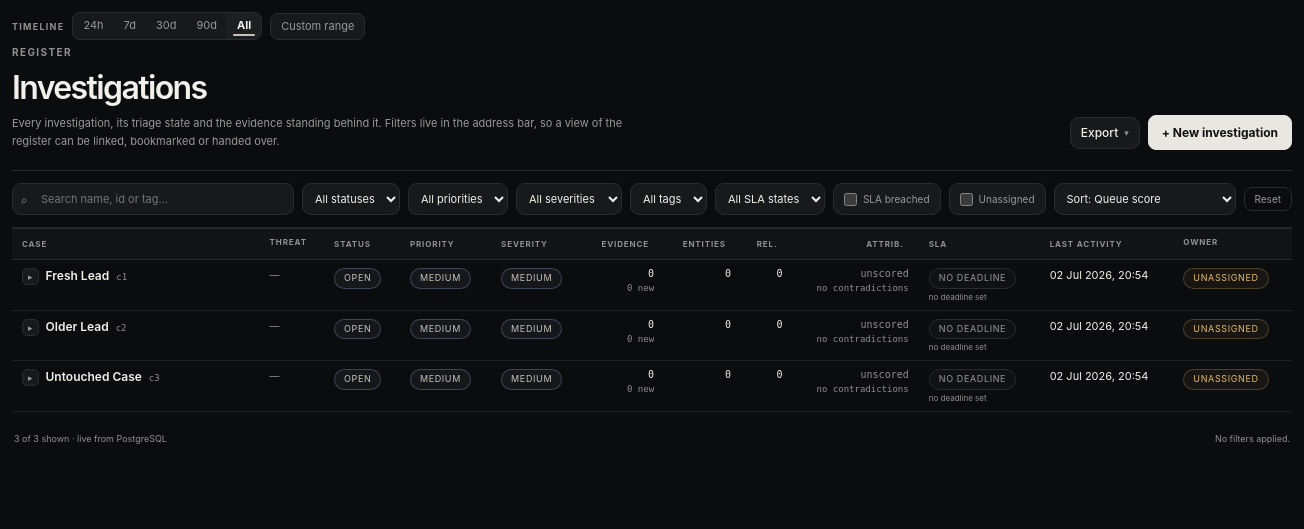
Test: the investigations register under a window › does not claim an empty window is an all-clear
Expected: the link "Fresh Lead" is shown, [46,268,109,283]
Step 1. Click the radio button labelled "24h" → (94, 26), box [73,13,114,39]
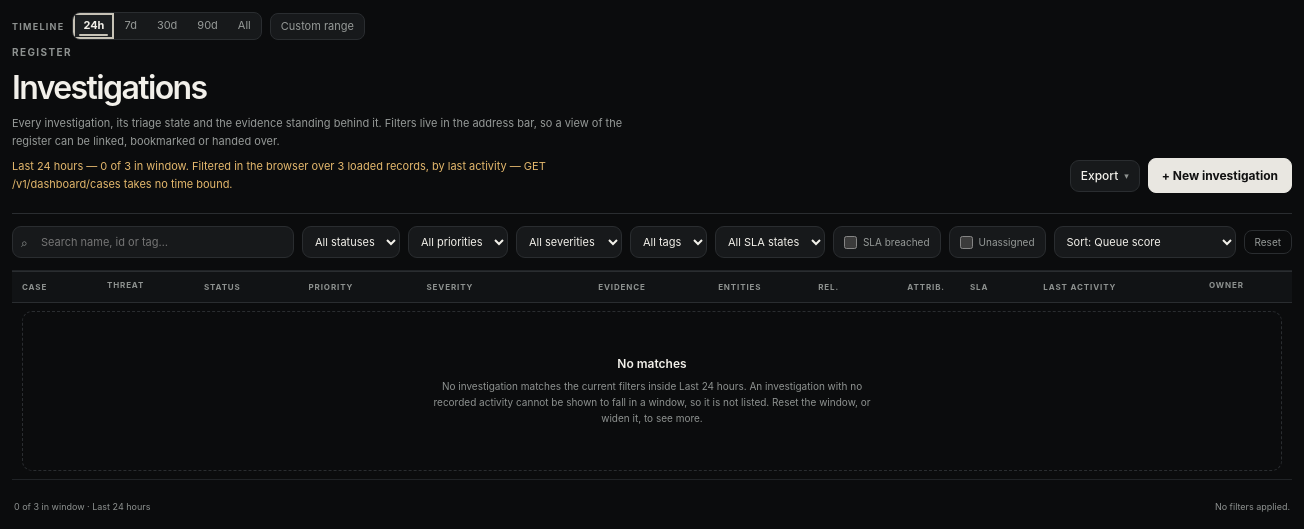
Expected: the text "No matches" is shown, [617,356,687,371]
Expected: the text "inside Last 24 hours" is shown, [434,380,871,424]
